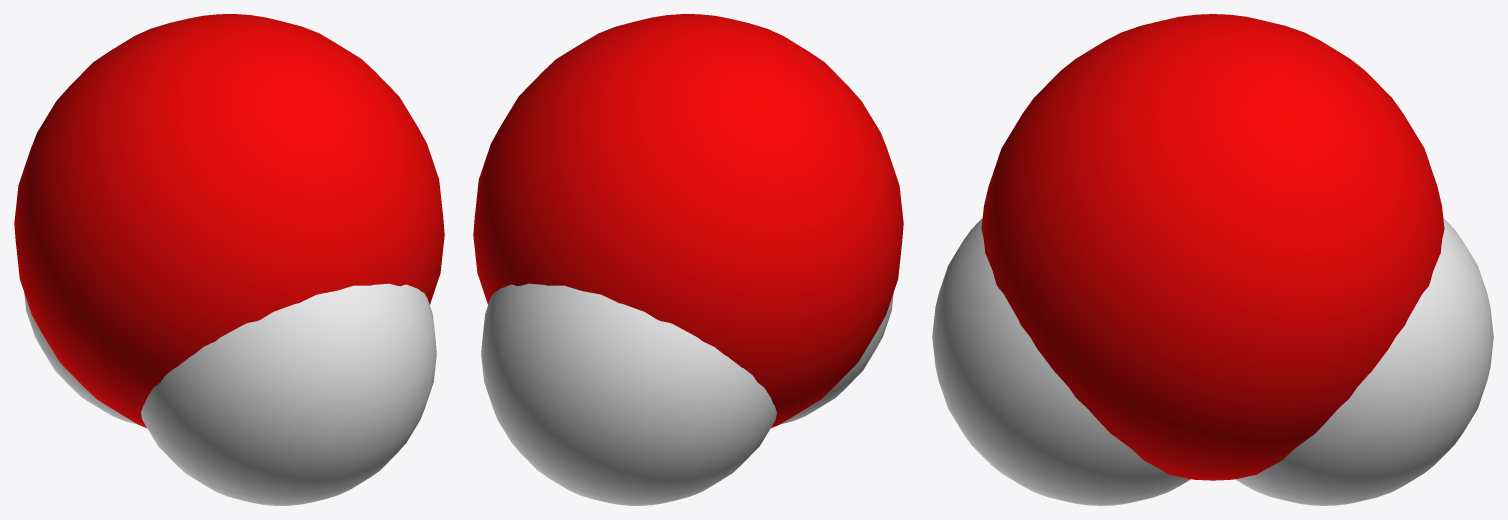
The model's file is water_2.fbx.
3 renders of one model, left to right at view 1: azimuth 30°, elevation 25°; view 2: azimuth 150°, elevation 25°; view 3: azimuth 270°, elevation 25°, orthographic. The views are drawn at different scales.
Parts seen in each view (by area): view 1: O01, H03, H02; view 2: O01, H02, H03; view 3: O01, H02, H03.
Part boxes in pixels (box(x1,y1,x2,y2)): O01: box(14, 14, 444, 427); H03: box(141, 283, 436, 505); H02: box(24, 292, 137, 424); O01: box(473, 14, 903, 427); H02: box(481, 283, 776, 505); H03: box(780, 292, 893, 424); O01: box(981, 14, 1444, 480); H02: box(1235, 218, 1493, 505); H03: box(932, 218, 1190, 505).
Size of the model in its own units: 304 by 327 by 366.
